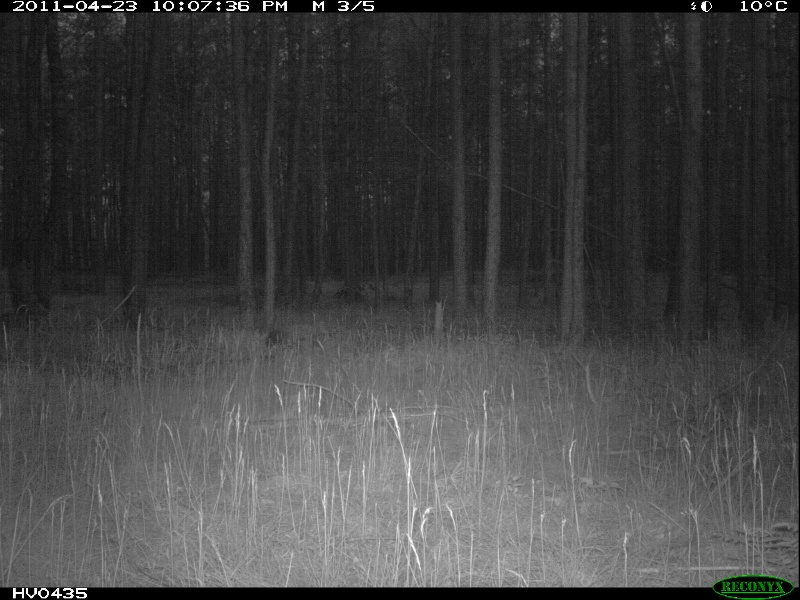fox: (260, 315, 336, 357)
